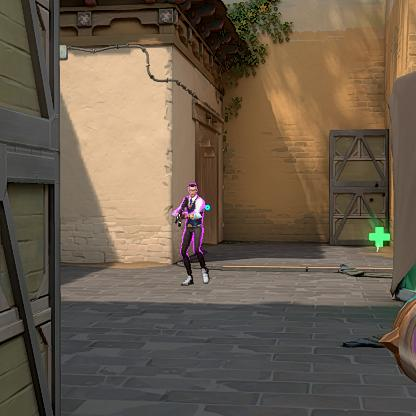enemyBody: (187, 199, 201, 224)
enemyHead: (190, 187, 196, 196)
